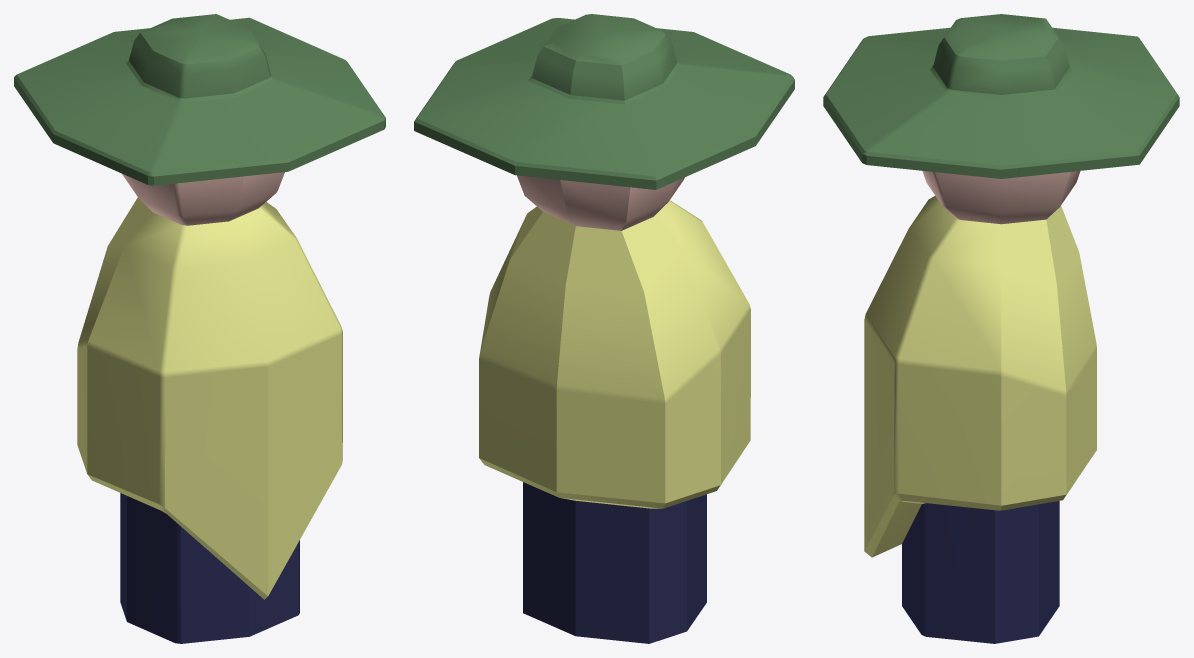
Rendered from Final Character Bgd.fbx.
3 renders of one model, left to right at view 1: azimuth 30°, elevation 25°; view 2: azimuth 150°, elevation 25°; view 3: azimuth 270°, elevation 25°, orthographic. The views are drawn at different scales.
Parts seen in each view (by area): view 1: pCube41; view 2: pCube41; view 3: pCube41.
Part boxes in pixels (bbox=[...]): pCube41: bbox=[14, 14, 385, 643]; pCube41: bbox=[414, 14, 794, 643]; pCube41: bbox=[823, 14, 1179, 643].
Size of the model in its own units: 56.93 by 105 by 58.89.
